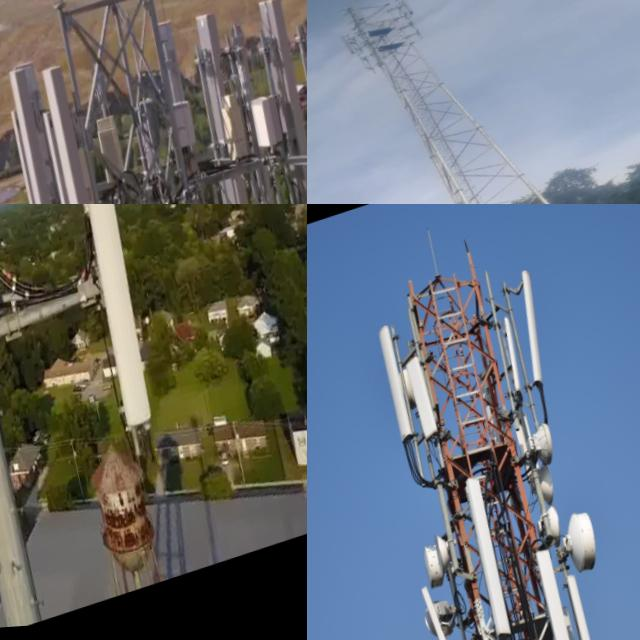GSM Antenna: (27, 204, 197, 456), (178, 0, 302, 204), (20, 48, 149, 204), (0, 48, 115, 204), (240, 0, 307, 204), (456, 471, 532, 640), (528, 544, 608, 640), (0, 98, 70, 204), (371, 320, 427, 446), (510, 272, 563, 394), (415, 577, 494, 640), (91, 109, 141, 196), (403, 359, 449, 446), (497, 318, 533, 404), (567, 576, 608, 640), (386, 0, 425, 28), (333, 31, 365, 62)
Microwave Antenna: (561, 512, 614, 589), (522, 419, 568, 477), (533, 499, 576, 556), (419, 542, 458, 597), (435, 530, 468, 575), (537, 472, 570, 514)
